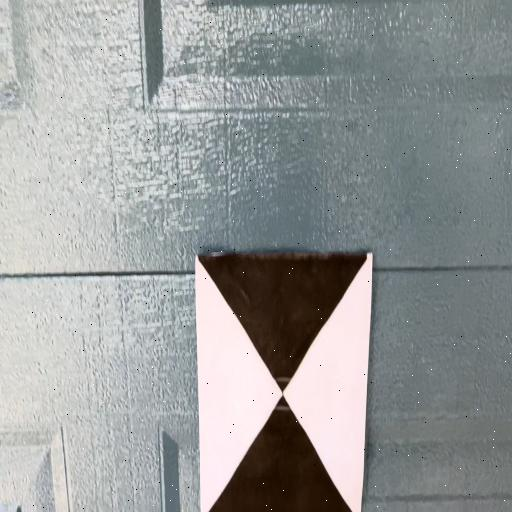target: (198, 253, 374, 511)
